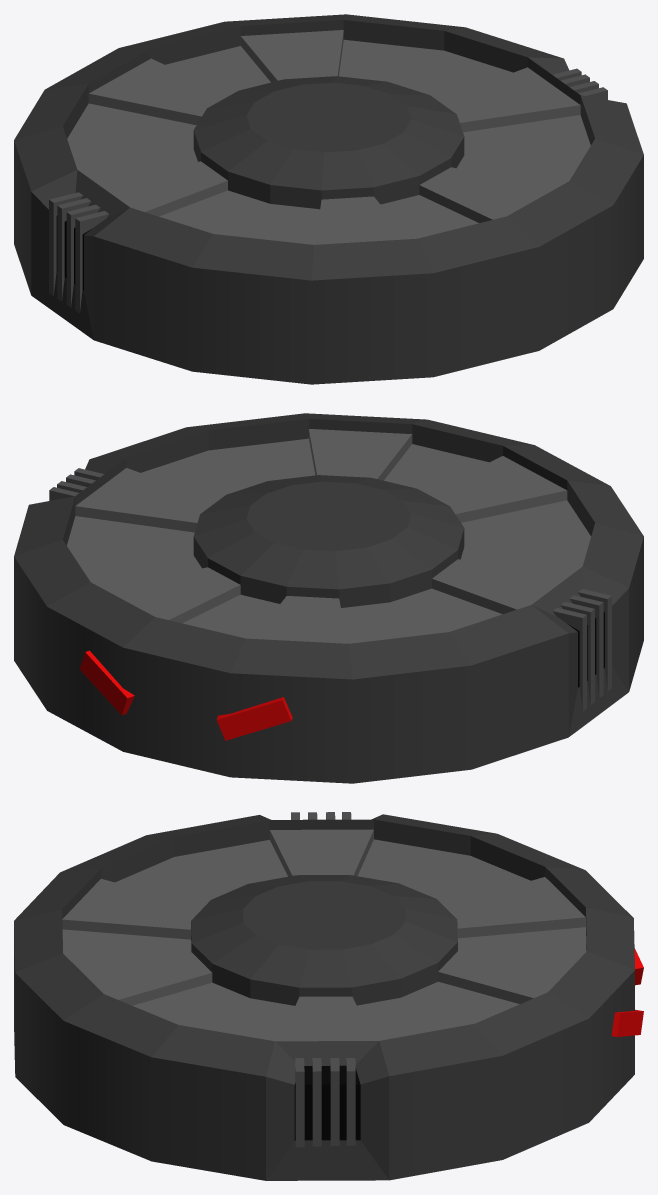
The model's file is SM_Roomba.fbx.
3 renders of one model, top to bottom at view 1: azimuth 30°, elevation 25°; view 2: azimuth 150°, elevation 25°; view 3: azimuth 270°, elevation 25°, orthographic.
Parts seen in each view (by area): view 1: polySurface2, pCube4, pasted__pCube4; view 2: polySurface2, pCube4, polySurface1, pasted__pCube4; view 3: polySurface2, pasted__pCube4, polySurface1.
Boxes of the visible parts, bbox=[...] form: polySurface2: bbox=[14, 14, 643, 384]; pCube4: bbox=[49, 192, 108, 313]; pasted__pCube4: bbox=[552, 68, 607, 99]; polySurface2: bbox=[14, 413, 643, 783]; pCube4: bbox=[553, 589, 611, 711]; polySurface1: bbox=[79, 650, 292, 740]; pasted__pCube4: bbox=[49, 468, 104, 500]; polySurface2: bbox=[14, 814, 634, 1180]; pasted__pCube4: bbox=[295, 1058, 355, 1147]; polySurface1: bbox=[611, 948, 643, 1036].
Bounding box in the file's own units: 8.37 × 2.34 × 8.49.
